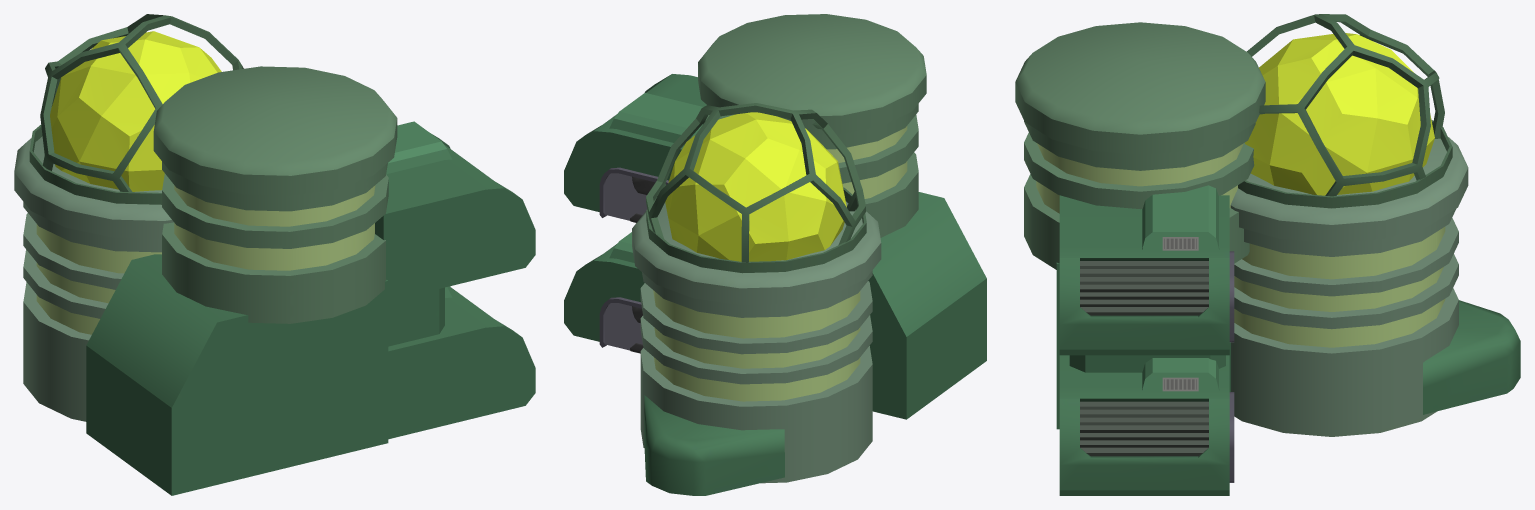
Rendered from SouthEast_Hotel_01.fbx.
The picture shows the model from 3 angles, left to right: view 1: azimuth 30°, elevation 25°; view 2: azimuth 150°, elevation 25°; view 3: azimuth 270°, elevation 25°; orthographic projection. The views are drawn at different scales.
Parts seen in each view (by area): view 1: SouthEast_Hotel_01; view 2: SouthEast_Hotel_01; view 3: SouthEast_Hotel_01.
Boxes of the visible parts, x1,y1,x2,y2 form: SouthEast_Hotel_01: [14, 14, 535, 495]; SouthEast_Hotel_01: [564, 14, 986, 495]; SouthEast_Hotel_01: [1015, 14, 1520, 495].
Bounding box in the file's own units: 46.31 × 42.09 × 53.59.
2 materials, 2 textured.
